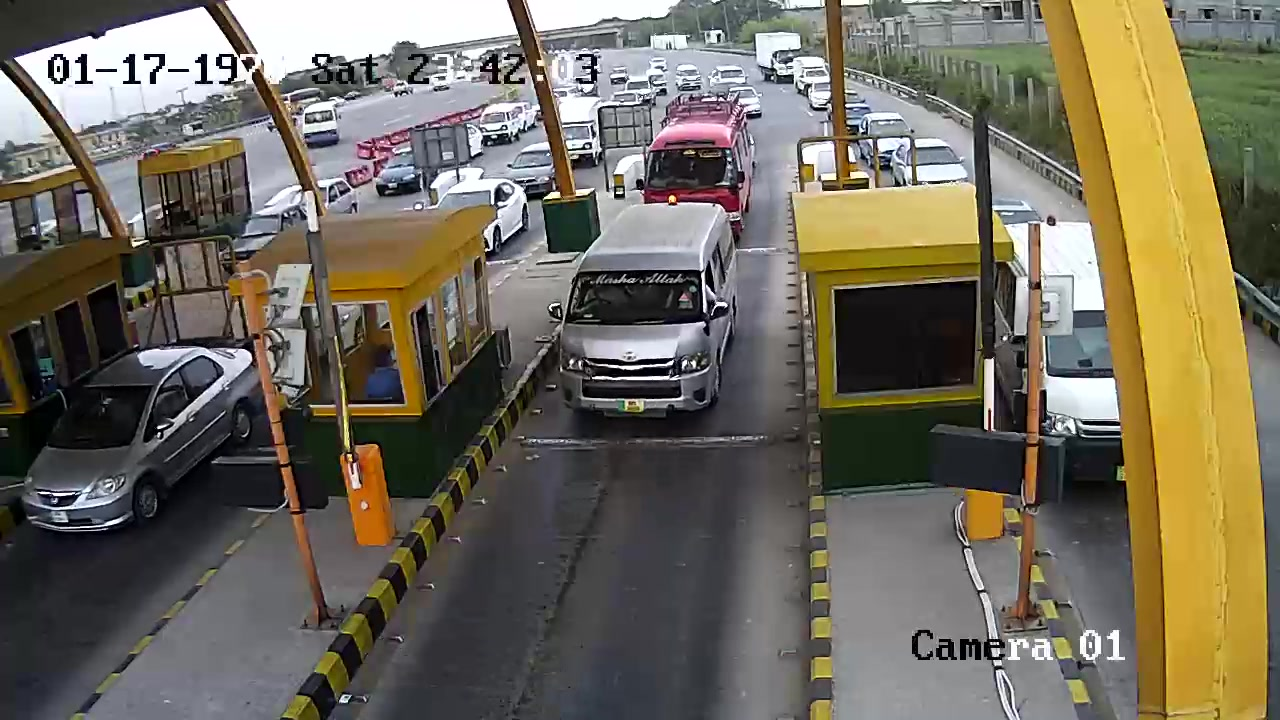F3: (553, 194, 744, 427)
